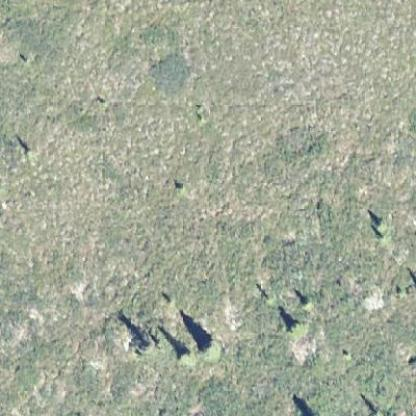tree-top: (198, 337, 221, 361), (288, 317, 304, 334), (178, 347, 191, 363), (371, 216, 385, 230)
